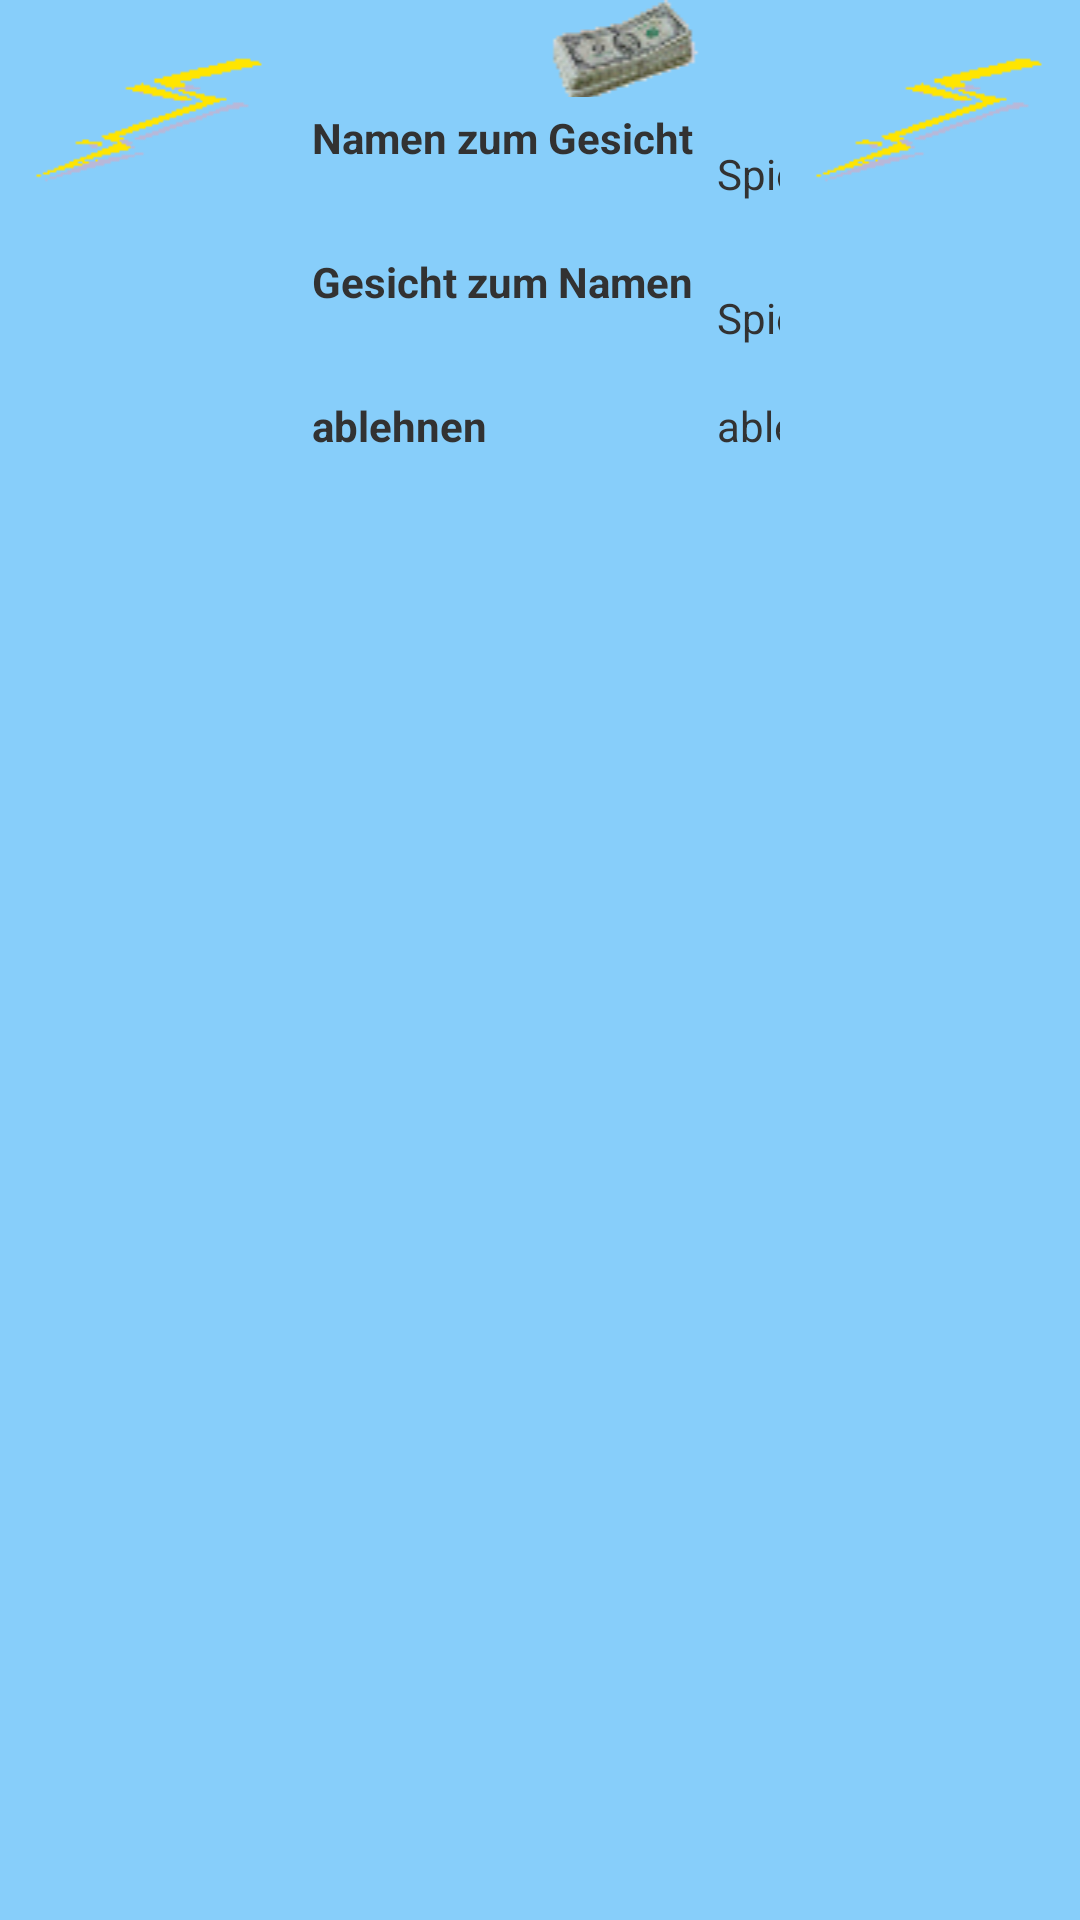

Screen size 1080w x 1920h. Icon name, then its box in pixels as (x1, y1, x2, y2):
lightening: (36, 58, 262, 181), (816, 58, 1042, 181)
money: (553, 0, 698, 97)
